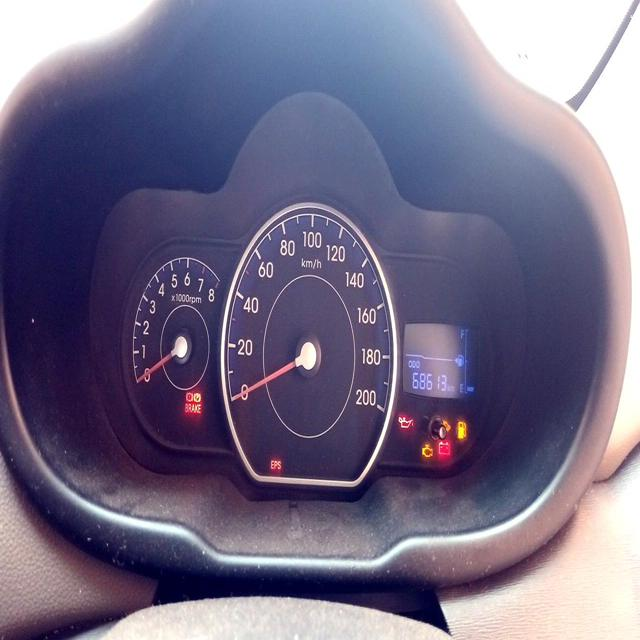odometer: (410, 366, 449, 398)
